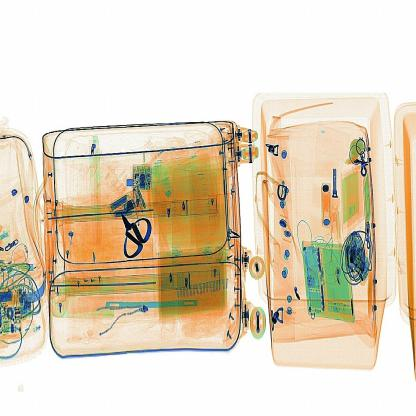gun: (112, 206, 160, 263)
